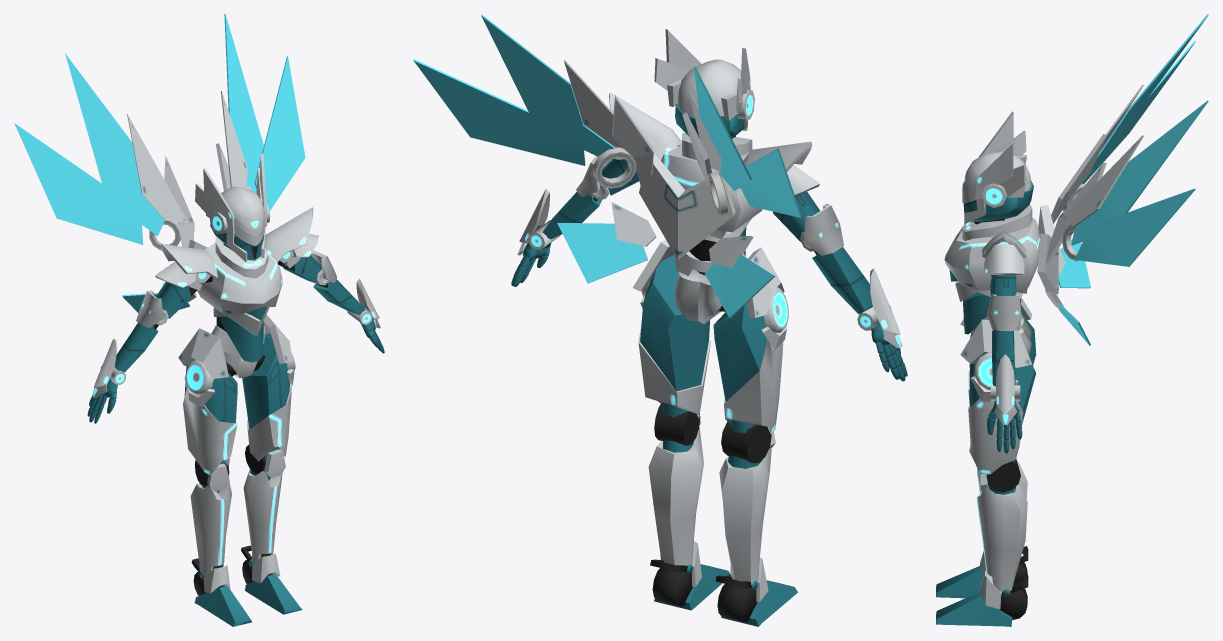
Rendered from hehe.glb.
The picture shows the model from 3 angles, left to right: view 1: azimuth 30°, elevation 25°; view 2: azimuth 150°, elevation 25°; view 3: azimuth 270°, elevation 25°; orthographic projection. The views are drawn at different scales.
Parts seen in each view (by area): view 1: W1, WW2, WW1, GNG, BR1, GV2, GV1, NT, BR2, GV1.1, ARM1; view 2: W1, WW2, WW1, GNG, GV2, BR1, GV1, ARM1, BR2; view 3: W1, WW2, WW1, GNG, BR2, NT, GV2.2, ARM2, GV2.
Boxes of the visible parts, bbox=[...] form: W1: bbox=[87, 154, 384, 626]; WW2: bbox=[14, 14, 305, 312]; WW1: bbox=[127, 91, 247, 301]; GNG: bbox=[197, 242, 282, 320]; BR1: bbox=[178, 328, 228, 378]; GV2: bbox=[265, 207, 313, 262]; GV1: bbox=[161, 244, 217, 279]; NT: bbox=[215, 236, 268, 278]; BR2: bbox=[263, 314, 292, 363]; GV1.1: bbox=[155, 262, 196, 287]; ARM1: bbox=[93, 338, 116, 387]; W1: bbox=[511, 29, 907, 626]; WW2: bbox=[413, 14, 801, 318]; WW1: bbox=[564, 59, 753, 267]; GNG: bbox=[661, 146, 762, 238]; GV2: bbox=[609, 92, 681, 160]; BR1: bbox=[747, 247, 784, 317]; GV1: bbox=[739, 141, 812, 188]; ARM1: bbox=[870, 268, 900, 334]; BR2: bbox=[632, 240, 674, 291]; W1: bbox=[936, 111, 1036, 626]; WW2: bbox=[1058, 14, 1208, 345]; WW1: bbox=[1037, 84, 1143, 311]; GNG: bbox=[944, 217, 1039, 293]; BR2: bbox=[960, 319, 1032, 367]; NT: bbox=[962, 204, 1032, 240]; GV2.2: bbox=[984, 244, 1024, 275]; ARM2: bbox=[996, 354, 1014, 414]; GV2: bbox=[982, 231, 1026, 257].
Bounding box in the file's own units: 3.6 × 5.8 × 2.62.
Materials: 2 (2 with a texture image).
